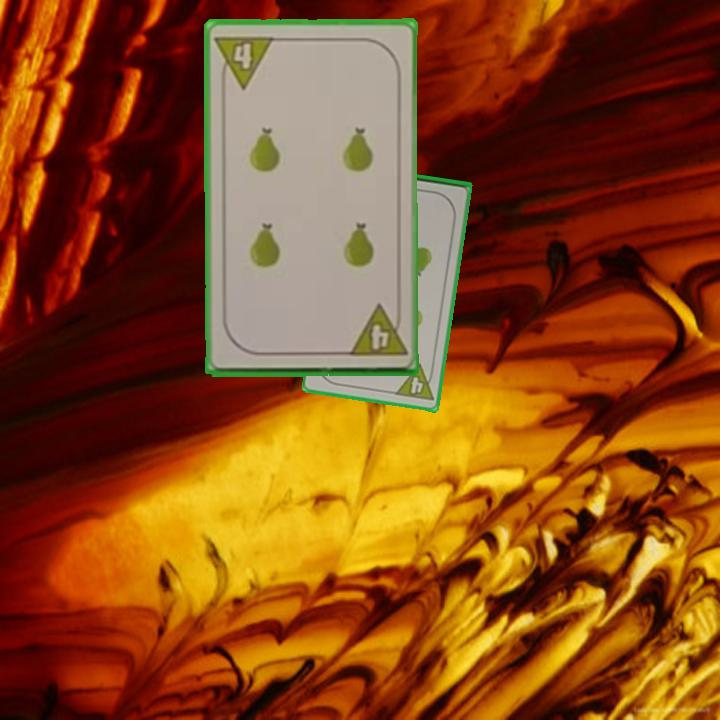4p: (212, 31, 277, 91), (345, 302, 410, 359), (392, 361, 437, 404)
